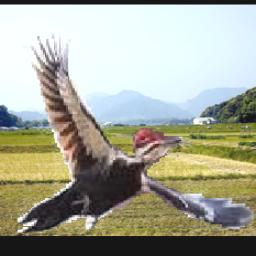Woodpecker: (19, 28, 255, 233)
